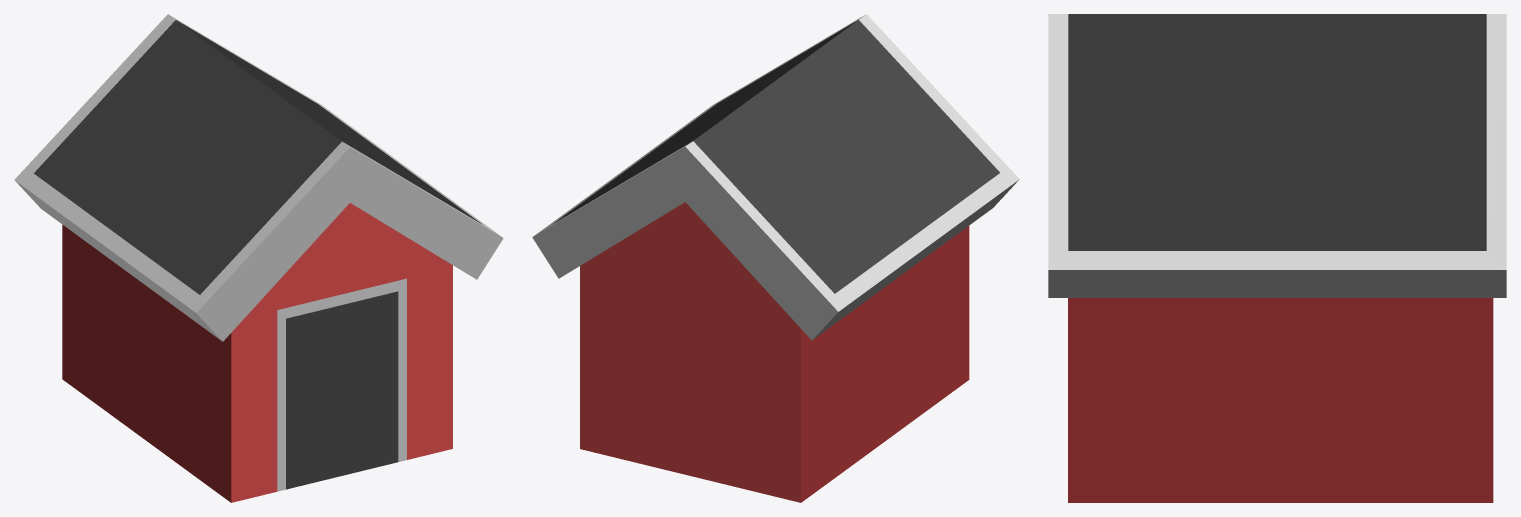
File: SM_DogHouse_01.fbx
3 renders of one model, left to right at view 1: azimuth 30°, elevation 25°; view 2: azimuth 150°, elevation 25°; view 3: azimuth 270°, elevation 25°, orthographic. The views are drawn at different scales.
Visible parts, largest first — view 1: SM_DogHouse_01; view 2: SM_DogHouse_01; view 3: SM_DogHouse_01.
Boxes of the visible parts, x1,y1,x2,y2 form: SM_DogHouse_01: (14, 14, 503, 502); SM_DogHouse_01: (532, 14, 1019, 502); SM_DogHouse_01: (1048, 14, 1506, 502).
Size of the model in its own units: 1.8 by 1.87 by 1.84.
